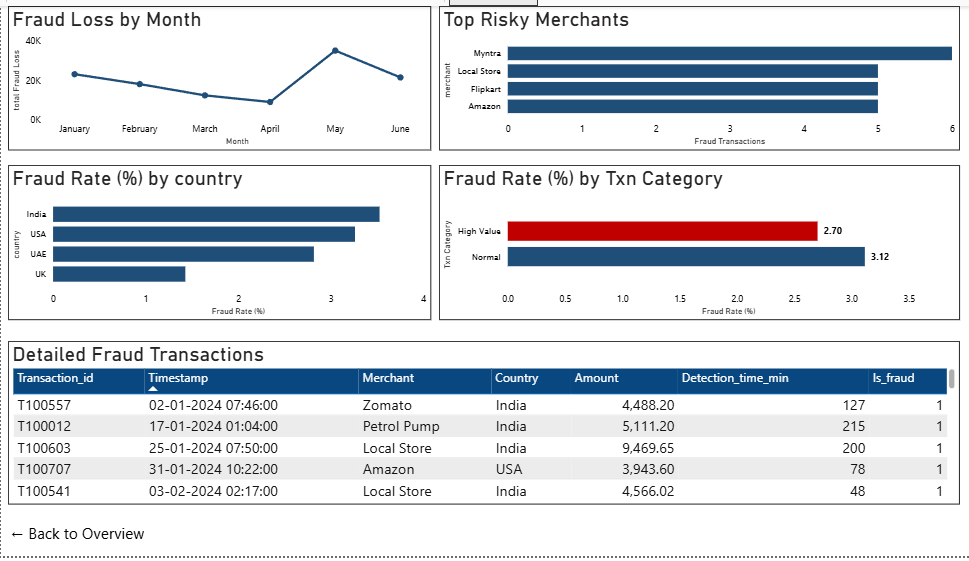

This screenshot's page, from the dashboard's own definition file:
{"tool":"powerbi","page":{"name":"Page 2","canvas":[1280,720],"ordinal":1},"visuals":[{"type":"lineChart","title":"Fraud Loss by Month","fields":{"Y":["cleaned_credit_card_data.total Fraud Loss"],"Category":["cleaned_credit_card_data.timestamp.Variation.Date Hierarchy.Month"]},"box":[9.2,0,553.8,189.2],"z":0},{"type":"barChart","title":"Top Risky Merchants","fields":{"Category":["cleaned_credit_card_data.merchant"],"Y":["cleaned_credit_card_data.Fraud Transactions"]},"box":[573.8,0,681.5,189.2],"z":1000},{"type":"tableEx","title":"Detailed Fraud Transactions","fields":{"Values":["cleaned_credit_card_data.transaction_id","cleaned_credit_card_data.timestamp","cleaned_credit_card_data.merchant","cleaned_credit_card_data.country","Sum(cleaned_credit_card_data.amount)","Sum(cleaned_credit_card_data.detection_time_min)","Sum(cleaned_credit_card_data.is_fraud)"]},"box":[9.2,438.5,1246.2,213.8],"z":2000},{"type":"barChart","fields":{"Category":["cleaned_credit_card_data.country"],"Y":["cleaned_credit_card_data.Fraud Rate (%)"]},"box":[9.2,207.7,553.8,203.1],"z":3000},{"type":"clusteredBarChart","fields":{"Category":["cleaned_credit_card_data.Txn Category"],"Y":["cleaned_credit_card_data.Fraud Rate (%)"]},"box":[573.4,208.1,682,202.9],"z":4000},{"type":"actionButton","box":[9.2,668.9,208.1,40.6],"z":5000}]}

Visuals, with their boxes in screenshot pixels (x1, y1, x2, y2), scaled from the page's 1280x720 canvas onto the 969x561 screenshot:
"Fraud Loss by Month" lineChart: bbox=(7, 0, 426, 147)
"Top Risky Merchants" barChart: bbox=(434, 0, 950, 147)
"Detailed Fraud Transactions" tableEx: bbox=(7, 342, 950, 508)
barChart - cleaned_credit_card_data.country x cleaned_credit_card_data.Fraud Rate (%): bbox=(7, 162, 426, 320)
clusteredBarChart - cleaned_credit_card_data.Txn Category x cleaned_credit_card_data.Fraud Rate (%): bbox=(434, 162, 950, 320)
actionButton: bbox=(7, 521, 165, 553)
